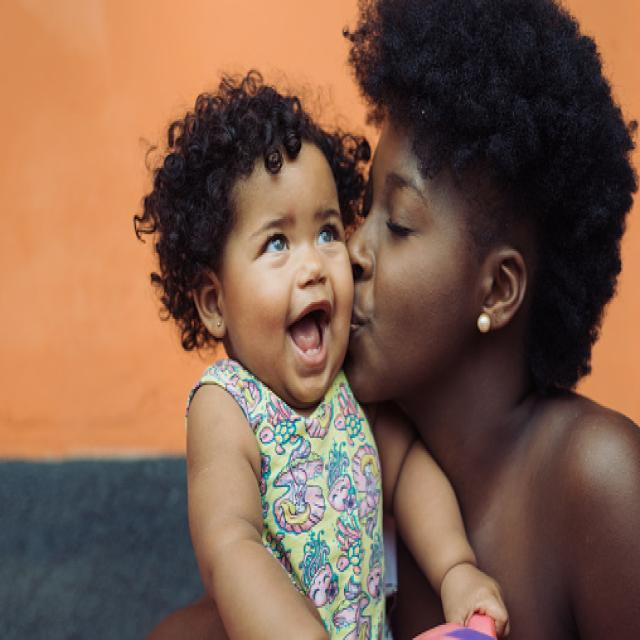non-dog: (133, 74, 512, 640), (340, 1, 640, 640)
